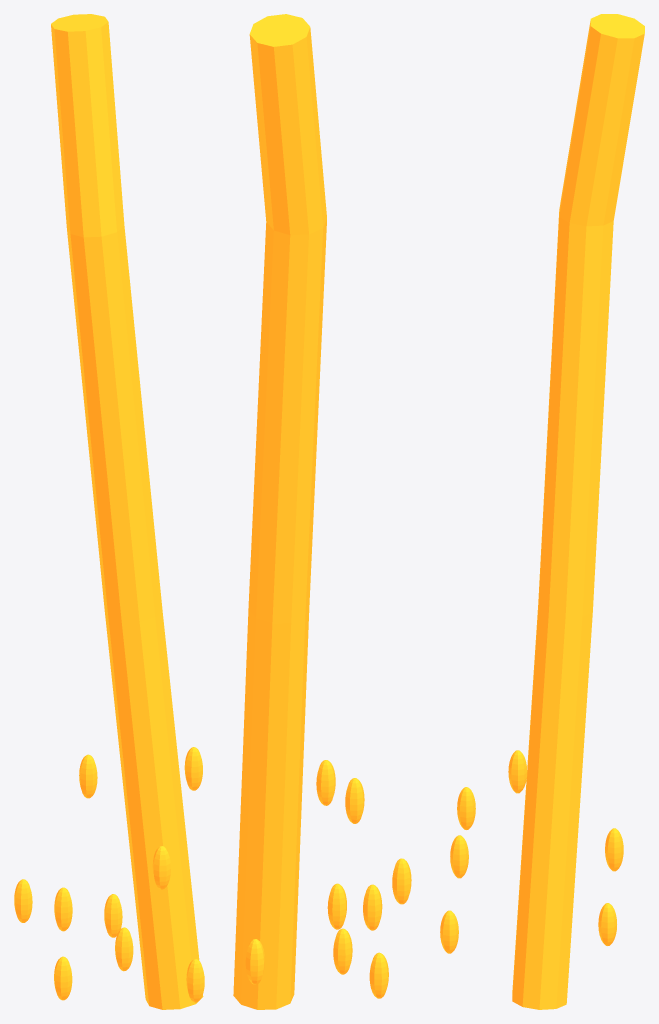
The model's file is molten-stream.glb.
The picture shows the model from 3 angles, left to right: view 1: azimuth 30°, elevation 25°; view 2: azimuth 150°, elevation 25°; view 3: azimuth 270°, elevation 25°; orthographic projection. The views are drawn at different scales.
Visible parts, largest first — view 1: molten-stream__molten-stream__molten; view 2: molten-stream__molten-stream__molten; view 3: molten-stream__molten-stream__molten.
Boxes of the visible parts, x1,y1,x2,y2 form: molten-stream__molten-stream__molten: (14, 14, 204, 1009); molten-stream__molten-stream__molten: (233, 14, 411, 1009); molten-stream__molten-stream__molten: (440, 14, 644, 1009).
Bounding box in the file's own units: 0.3196 × 2.01 × 0.3918.
